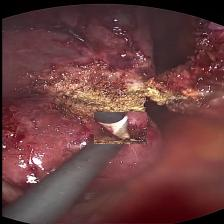Hook: (93, 113, 146, 144)
